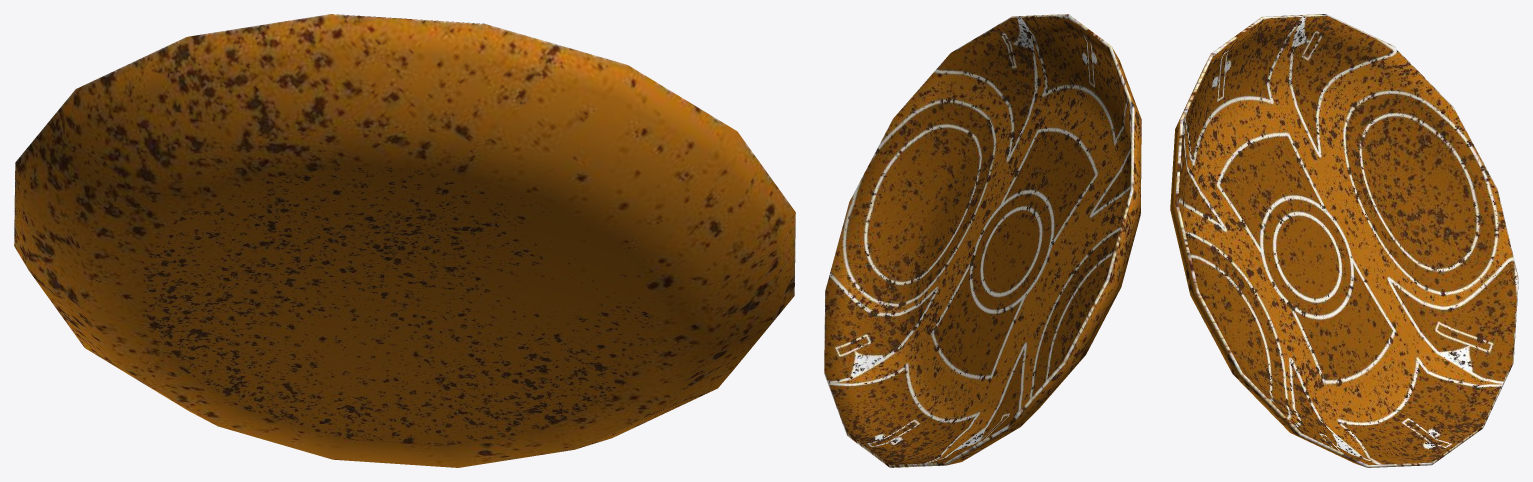
Rendered from tayble (1).glb.
3 views of the same model, side by side, from view 1: azimuth 30°, elevation 25°; view 2: azimuth 150°, elevation 25°; view 3: azimuth 270°, elevation 25° (orthographic). The views are drawn at different scales.
Visible parts, largest first — view 1: Vert; view 2: Vert; view 3: Vert.
Boxes of the visible parts, box(x1,y1,x2,y2) form: Vert: box(14, 14, 795, 467); Vert: box(824, 14, 1141, 467); Vert: box(1170, 14, 1518, 467).
Bounding box in the file's own units: 0.6613 × 0.6358 × 0.5514.
1 material, 1 textured.
